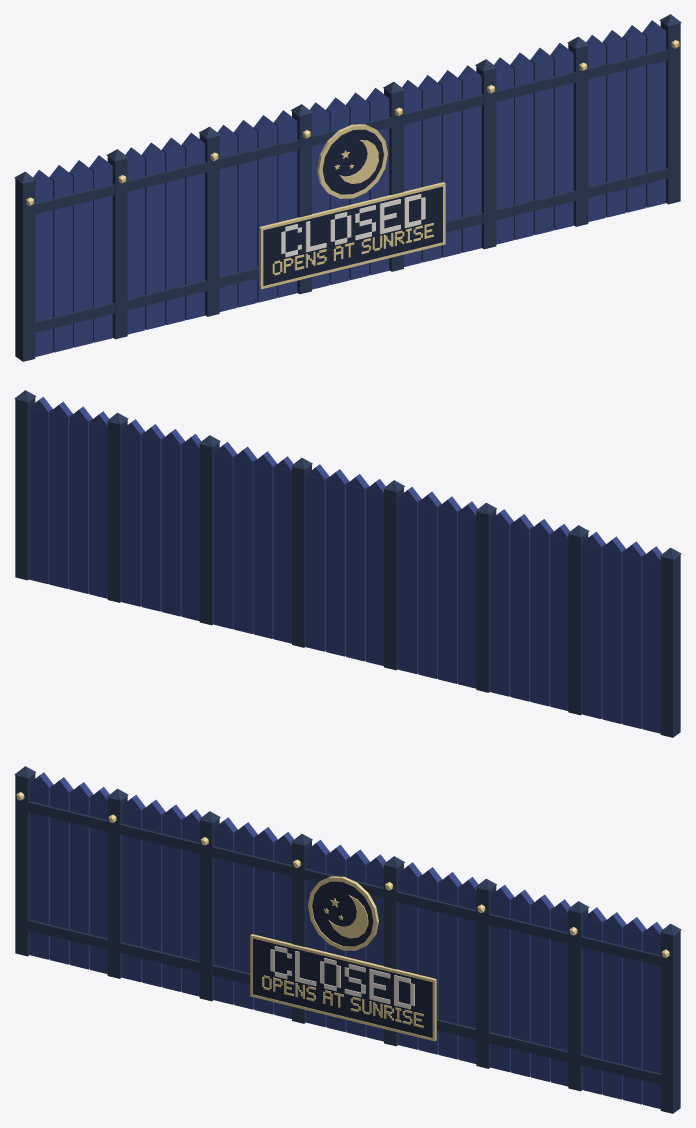
File: CatCafe_Park_NightFence.glb
3 views of the same model, one above another, from view 1: azimuth 30°, elevation 25°; view 2: azimuth 150°, elevation 25°; view 3: azimuth 330°, elevation 25° (orthographic).
Visible parts, largest first — view 1: CatCafe_Park_NightFence, CatCafe_Park_NightFence_Moon_Bulb; view 2: CatCafe_Park_NightFence; view 3: CatCafe_Park_NightFence, CatCafe_Park_NightFence_Moon_Bulb.
Part boxes in pixels (left/top/right/bottom): CatCafe_Park_NightFence: left=14, top=14, right=681, bottom=361; CatCafe_Park_NightFence_Moon_Bulb: left=26, top=40, right=679, bottom=289; CatCafe_Park_NightFence: left=14, top=390, right=681, bottom=737; CatCafe_Park_NightFence: left=14, top=766, right=681, bottom=1113; CatCafe_Park_NightFence_Moon_Bulb: left=16, top=792, right=669, bottom=1041.
Bounding box in the file's own units: 32.06 × 8.64 × 0.9251.
1 material, 1 textured.
